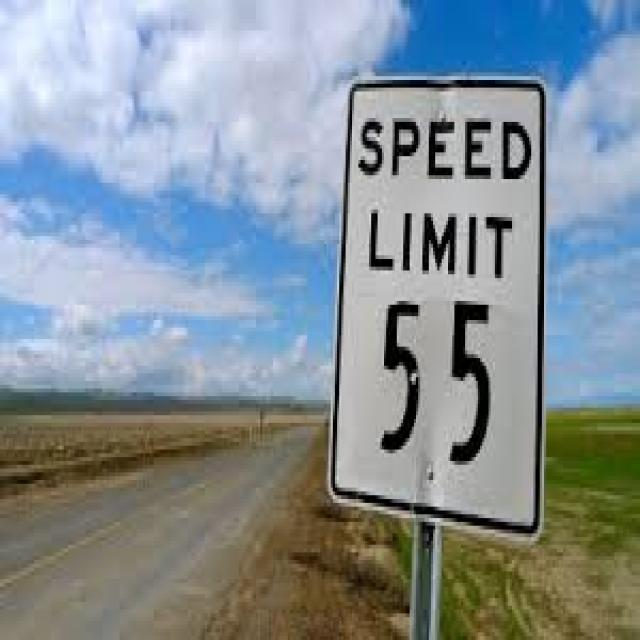speedLimit55: (336, 80, 554, 545)
